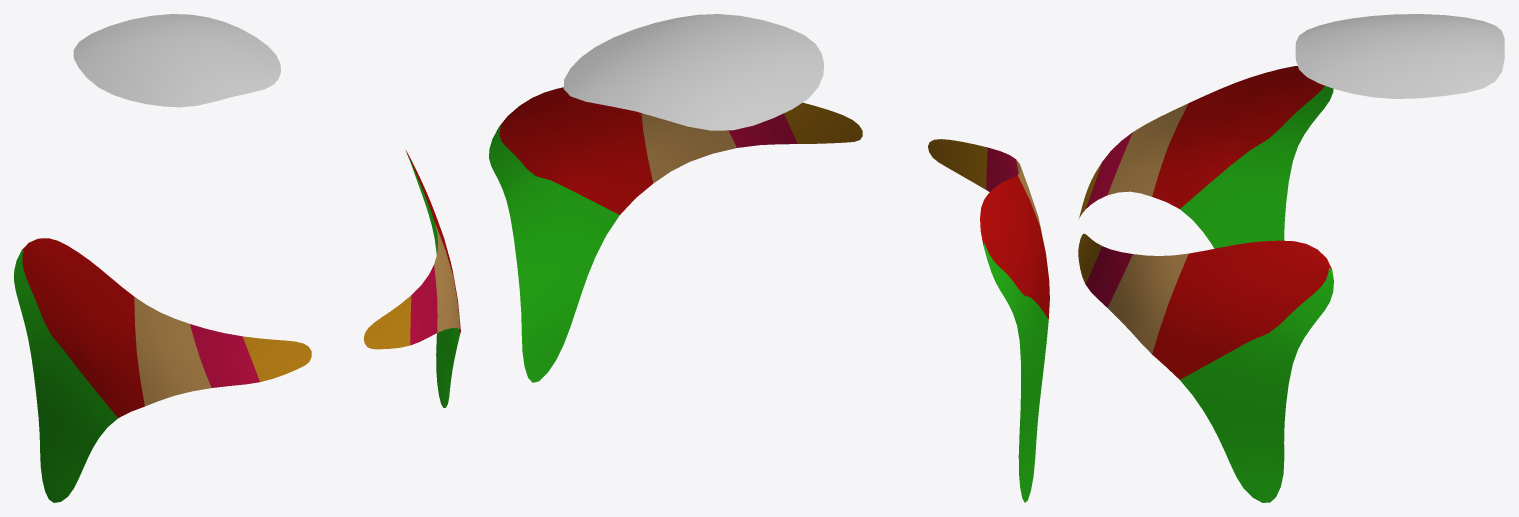
File: Phase_1.dae
3 views of the same model, side by side, from view 1: azimuth 30°, elevation 25°; view 2: azimuth 150°, elevation 25°; view 3: azimuth 270°, elevation 25° (orthographic). The views are drawn at different scales.
Parts seen in each view (by area): view 1: top, right4, right5, right3, right2, right1, left1, left5, left3, left2; view 2: top, left5, left4, right4, right5, left3, left1, right1, left2, right2; view 3: top, left4, left5, right4, right5, left3, right3, left2, right2, left1.
Part boxes in pixels (<box>): top: <box>73,14,280,107</box>; right4: <box>22,238,144,417</box>; right5: <box>14,250,117,502</box>; right3: <box>134,297,211,406</box>; right2: <box>190,324,259,387</box>; right1: <box>242,336,311,381</box>; left1: <box>363,295,411,349</box>; left5: <box>408,156,459,407</box>; left3: <box>434,224,460,332</box>; left2: <box>410,265,437,345</box>; top: <box>563,14,824,130</box>; left5: <box>489,125,619,382</box>; left4: <box>499,87,653,214</box>; right4: <box>980,175,1049,319</box>; right5: <box>983,243,1048,502</box>; left3: <box>641,113,736,183</box>; left1: <box>784,102,862,143</box>; right1: <box>928,139,987,189</box>; left2: <box>728,113,797,147</box>; right2: <box>986,147,1018,191</box>; top: <box>1295,14,1504,98</box>; left4: <box>1152,240,1331,379</box>; left5: <box>1180,268,1333,502</box>; right4: <box>1152,66,1324,208</box>; right5: <box>1180,85,1333,248</box>; left3: <box>1107,253,1188,353</box>; right3: <box>1108,103,1188,196</box>; left2: <box>1085,246,1132,307</box>; right2: <box>1086,132,1132,208</box>; left1: <box>1078,233,1101,283</box>.
Size of the model in its own units: 13.4 by 11.25 by 11.88.
